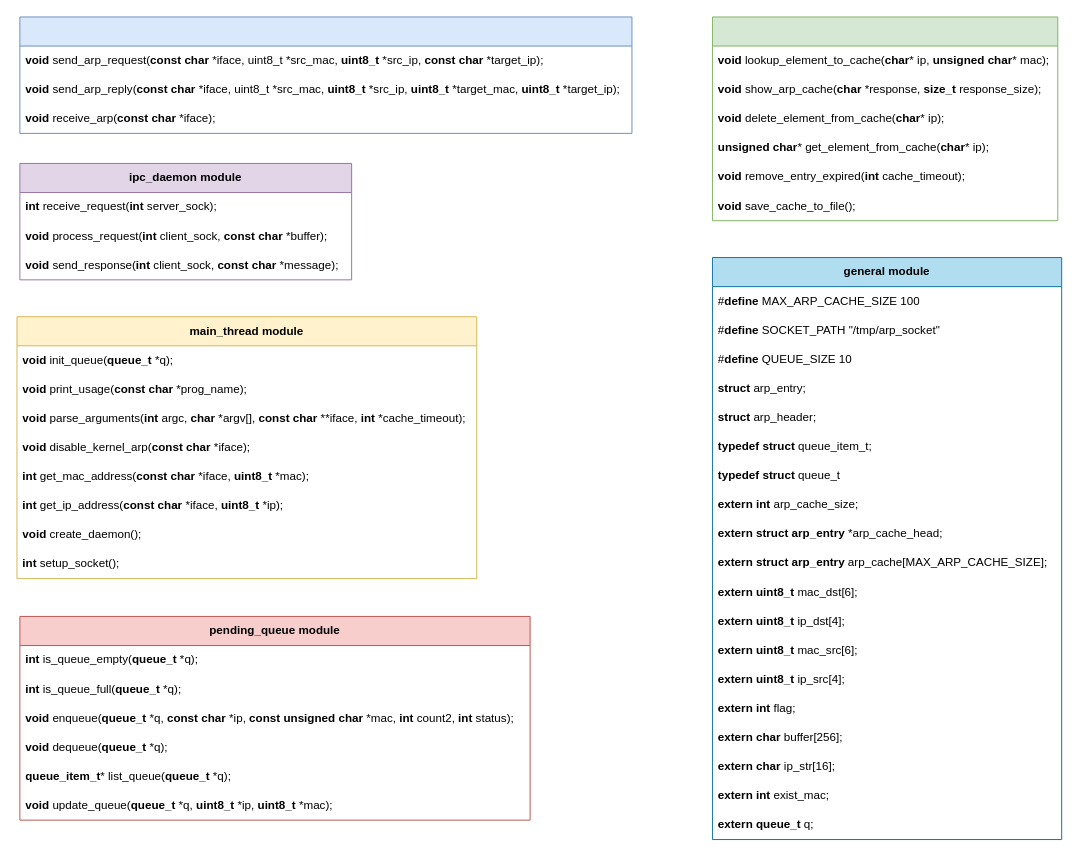
Image size: 1079x857. Some labels were removed from this diagram. The box of each missing label's shape, as (x1, y1, x2, y2) in pixels:
arp module: (19, 16, 632, 133)
arp_cache module: (711, 16, 1058, 221)
